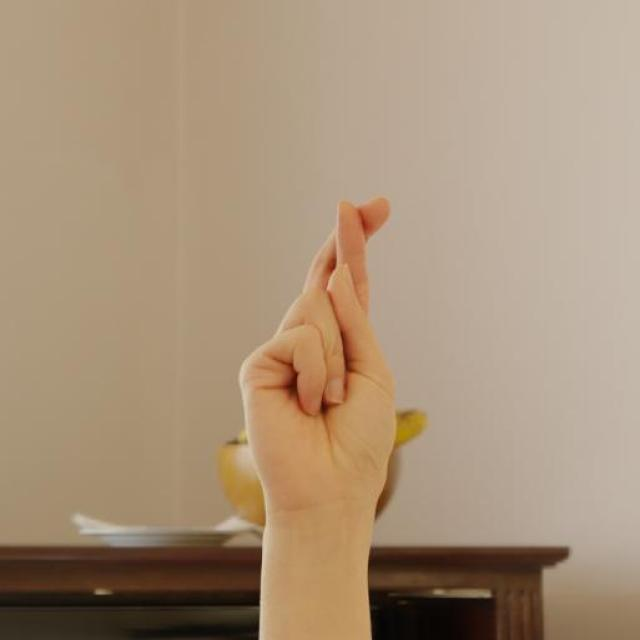R: (232, 192, 403, 518)
